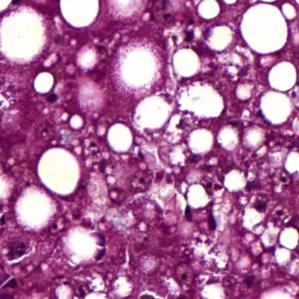steatosis: (237, 3, 289, 55), (35, 146, 84, 198), (258, 91, 292, 126), (167, 46, 202, 79)
